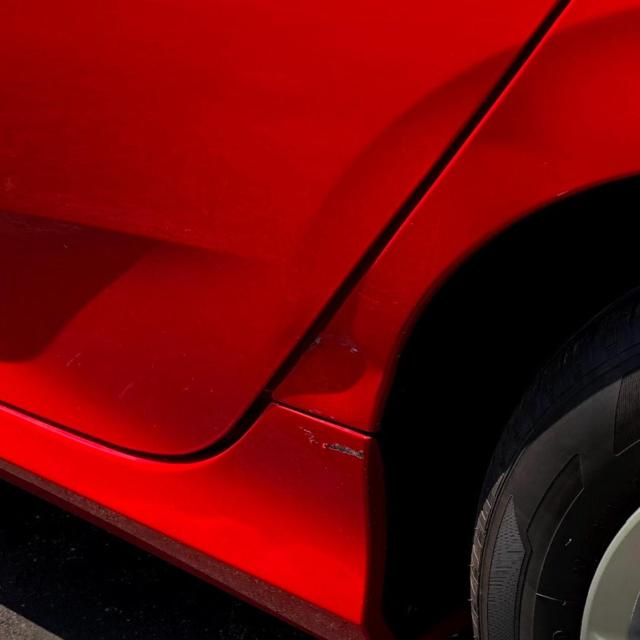dent: (272, 271, 417, 436)
